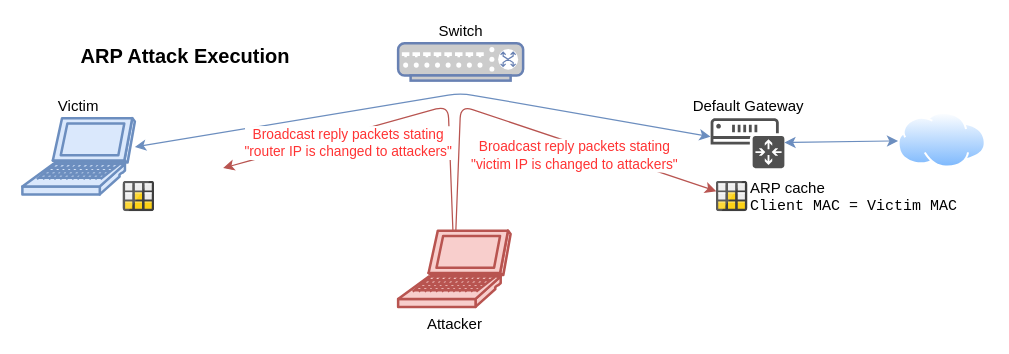
The diagram is 1009 pixels wide and 354 high, and some of its shapes have lost their labels. The shapes that lost their labels are listed below. From the top down, each one's centre as x and y in pixels, then its label:
point 942,140: Internet
point 138,196: ARP cache Gateway MAC = Switch MAC
